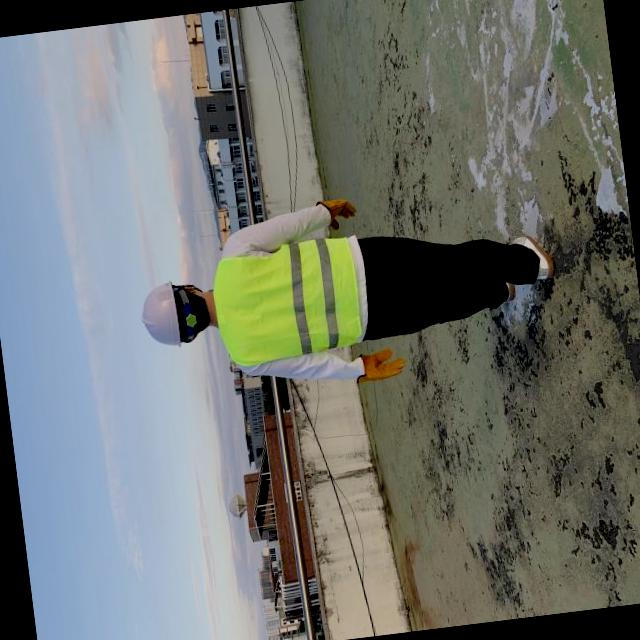vest: (206, 230, 368, 372)
